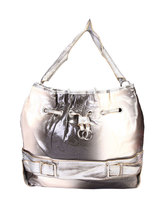bag: (8, 18, 148, 189)
